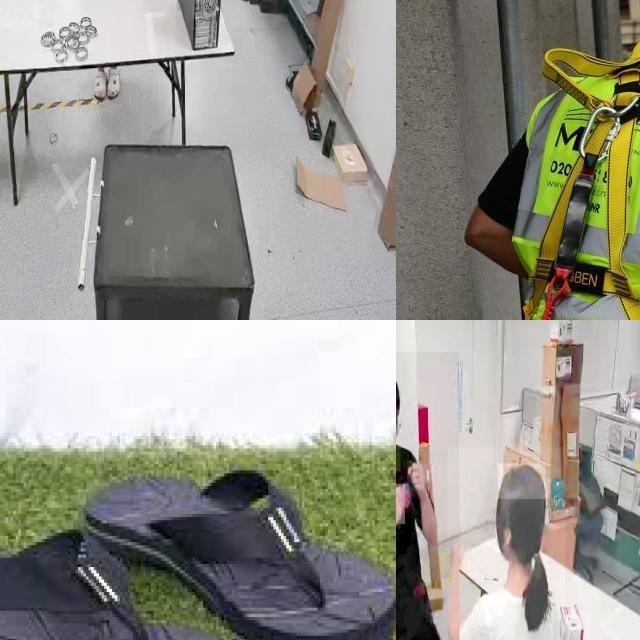Harness: (529, 44, 640, 320)
Sandals: (0, 416, 396, 640)
hand_noglove: (407, 461, 430, 491), (448, 539, 463, 566), (396, 483, 405, 524)
head_nohelmet: (498, 463, 546, 500)
person: (447, 447, 565, 640), (396, 352, 459, 640)
